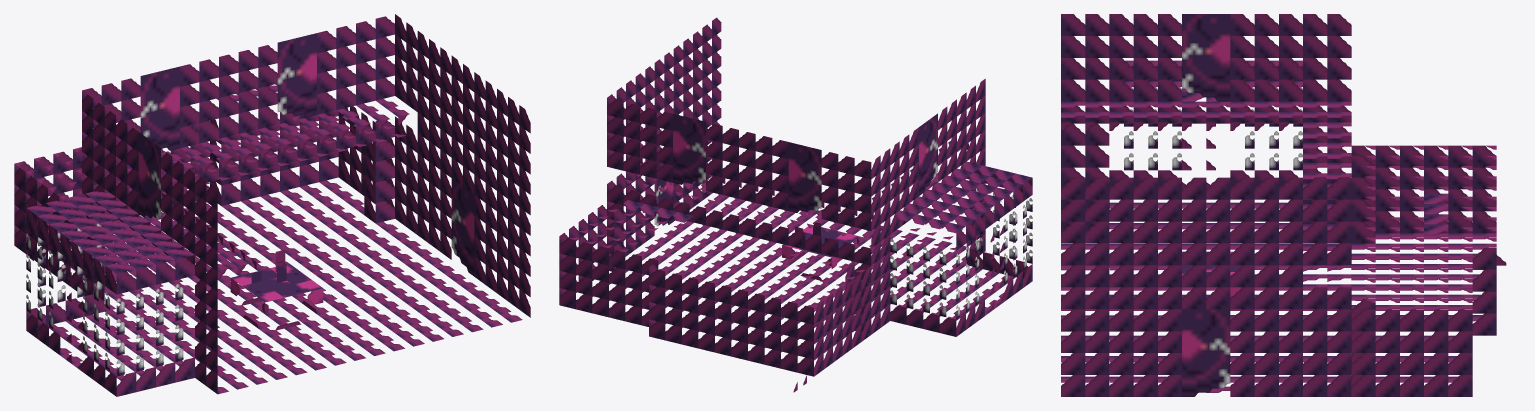
Rendered from Cato's House Rough Render.dae.
3 views of the same model, side by side, from view 1: azimuth 30°, elevation 25°; view 2: azimuth 150°, elevation 25°; view 3: azimuth 270°, elevation 25° (orthographic). The views are drawn at different scales.
Parts seen in each view (by area): view 1: default; view 2: default; view 3: default.
Boxes of the visible parts, <box> form: default: <box>14,14,530,396</box>; default: <box>559,17,1032,392</box>; default: <box>1061,14,1506,396</box>.
Bounding box in the file's own units: 20 × 11 × 19.
Materials: 1 (1 with a texture image).
